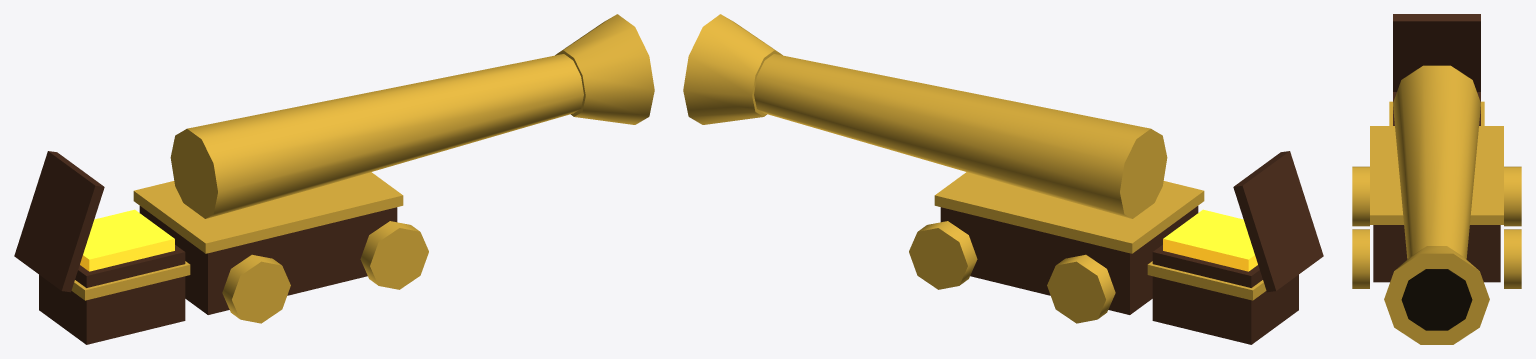
The model's file is mount-midas.glb.
The picture shows the model from 3 angles, left to right: view 1: azimuth 30°, elevation 25°; view 2: azimuth 150°, elevation 25°; view 3: azimuth 270°, elevation 25°; orthographic projection. The views are drawn at different scales.
Parts seen in each view (by area): view 1: Mesh_Barrel, Mesh_CarriageTrim, Mesh_Carriage, Mesh_Chest, Mesh_ChestLid, Mesh_Bell, Mesh_ChestCoin, Mesh_Wheel3, Mesh_Wheel1, Mesh_ChestBand; view 2: Mesh_Barrel, Mesh_CarriageTrim, Mesh_Carriage, Mesh_Chest, Mesh_ChestLid, Mesh_Bell, Mesh_ChestCoin, Mesh_Wheel2, Mesh_Wheel0, Mesh_ChestBand; view 3: Mesh_Barrel, Mesh_CarriageTrim, Mesh_ChestLid, Mesh_Bell, Mesh_Bore, Mesh_Carriage, Mesh_Wheel0, Mesh_Wheel1, Mesh_Wheel2, Mesh_Wheel3, Mesh_ChestBand.
Boxes of the visible parts, <box> form: Mesh_Barrel: <box>170,54,583,218</box>; Mesh_CarriageTrim: <box>133,172,403,253</box>; Mesh_Carriage: <box>139,206,397,314</box>; Mesh_Chest: <box>39,245,185,344</box>; Mesh_ChestLid: <box>14,151,104,292</box>; Mesh_Bell: <box>555,14,654,124</box>; Mesh_ChestCoin: <box>80,209,174,271</box>; Mesh_Wheel3: <box>360,221,428,289</box>; Mesh_Wheel1: <box>222,254,290,323</box>; Mesh_ChestBand: <box>71,261,190,300</box>; Mesh_Barrel: <box>754,54,1167,218</box>; Mesh_CarriageTrim: <box>934,172,1204,253</box>; Mesh_Carriage: <box>940,206,1198,314</box>; Mesh_Chest: <box>1152,245,1298,344</box>; Mesh_ChestLid: <box>1233,151,1323,292</box>; Mesh_Bell: <box>683,14,782,124</box>; Mesh_ChestCoin: <box>1163,209,1257,271</box>; Mesh_Wheel2: <box>909,221,977,289</box>; Mesh_Wheel0: <box>1047,254,1115,323</box>; Mesh_ChestBand: <box>1147,261,1266,300</box>; Mesh_Barrel: <box>1393,65,1480,259</box>; Mesh_CarriageTrim: <box>1370,126,1503,224</box>; Mesh_ChestLid: <box>1393,14,1480,91</box>; Mesh_Bell: <box>1384,246,1489,344</box>; Mesh_Bore: <box>1401,269,1472,330</box>; Mesh_Carriage: <box>1373,225,1500,282</box>; Mesh_Wheel0: <box>1504,166,1521,226</box>; Mesh_Wheel1: <box>1352,166,1369,226</box>; Mesh_Wheel2: <box>1504,229,1521,288</box>; Mesh_Wheel3: <box>1352,229,1369,288</box>; Mesh_ChestBand: <box>1389,101,1484,125</box>.
Size of the model in its own units: 3.59 by 0.9853 by 0.96.
